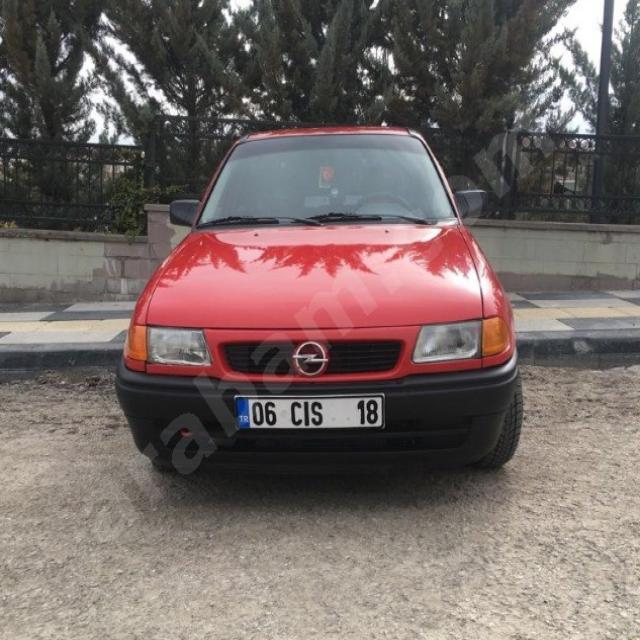license_plate: (236, 394, 384, 430)
